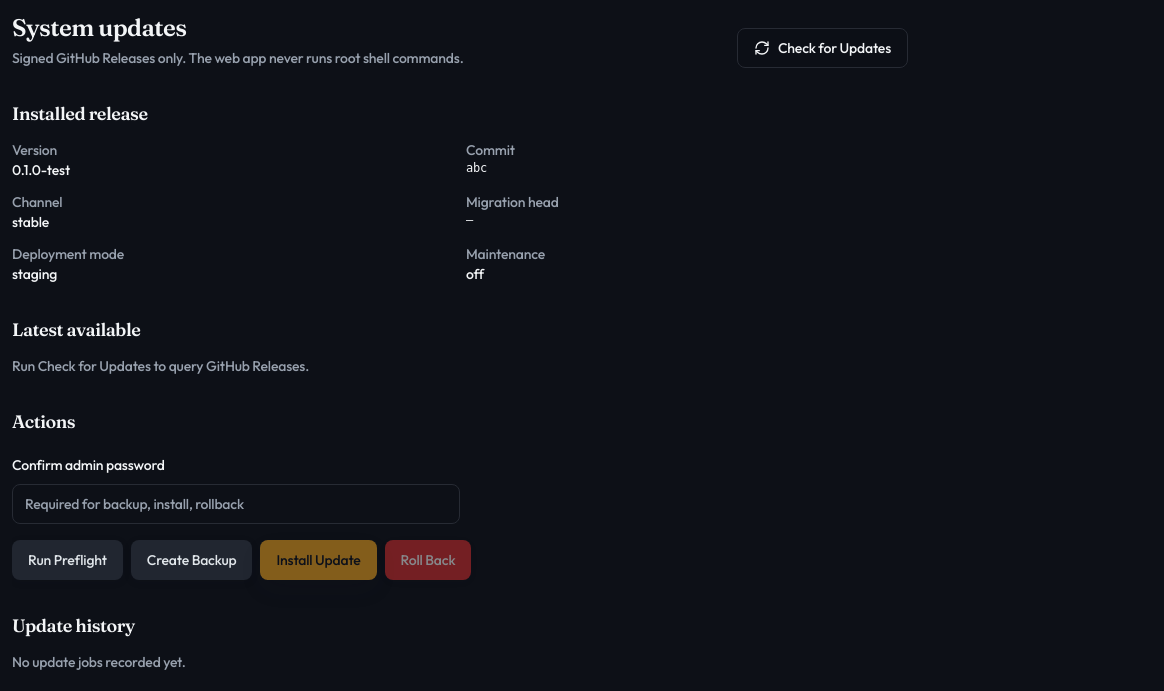
Scenario: SystemUpdatesPage › requires password before install
The image size is (1164, 691).
Check: the text "0.1.0-test" is shown, box [12,161,70,179]
Step 1. Click the button "Check for Updates" → (822, 48), box [737,28,908,68]
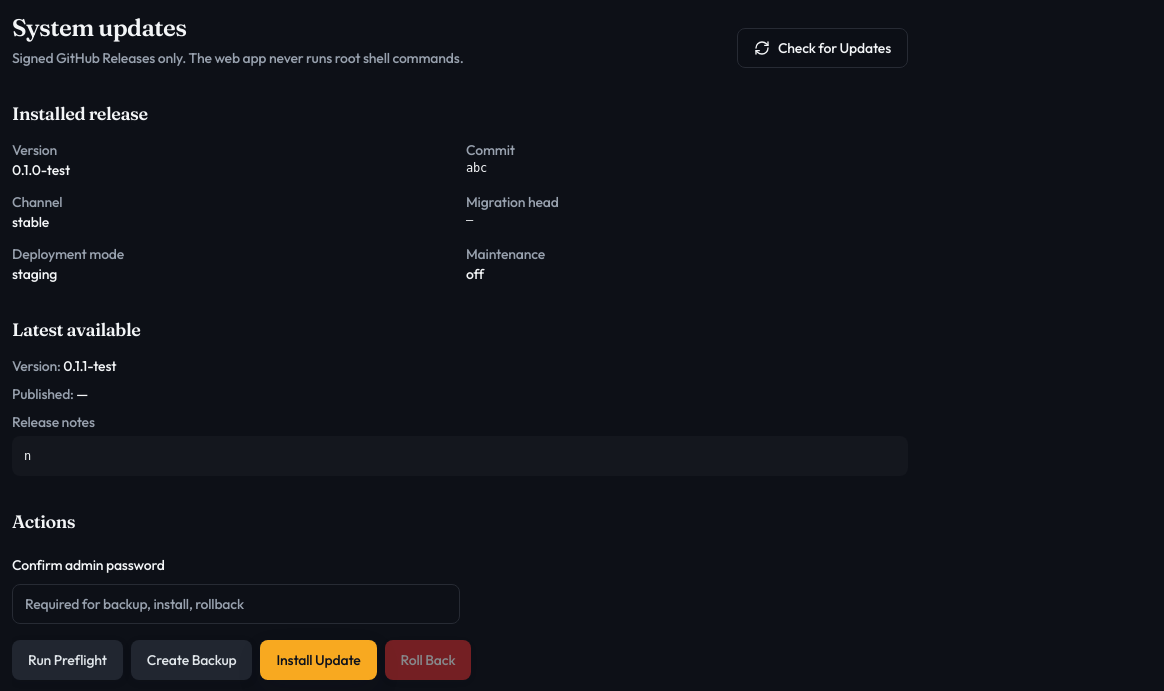
Check: the text "0.1.1-test" is shown, box [63,357,116,375]
Step 2. Click the button "Install Update" → (319, 660), box [260,640,377,680]
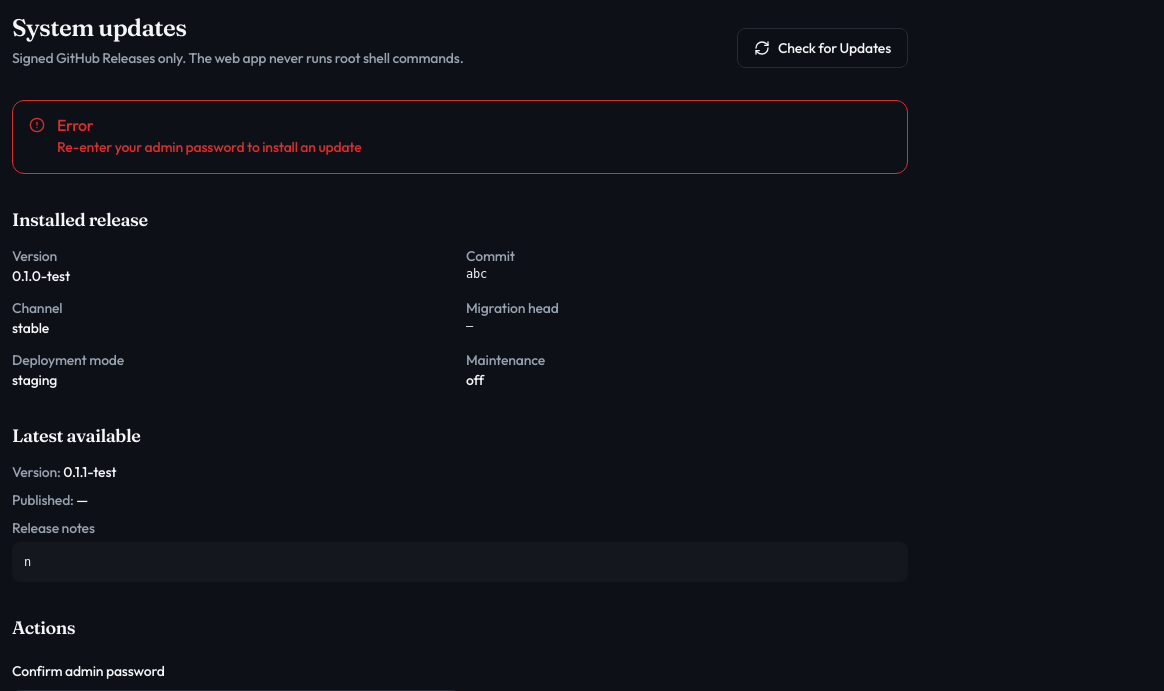
Check: the text "Re-enter your admin password to install an update" is shown, box [57,137,362,157]
